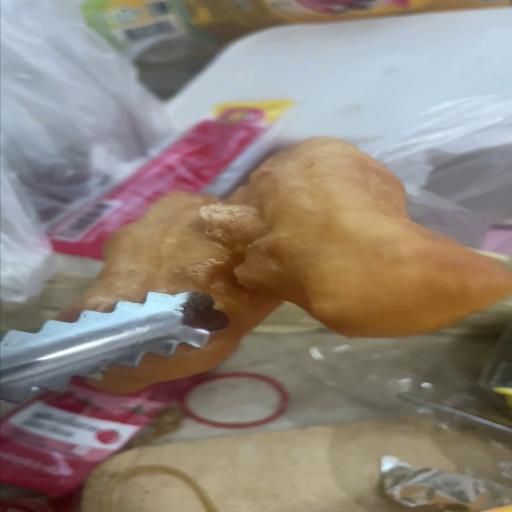street_burnt_defect: (57, 137, 512, 393)
